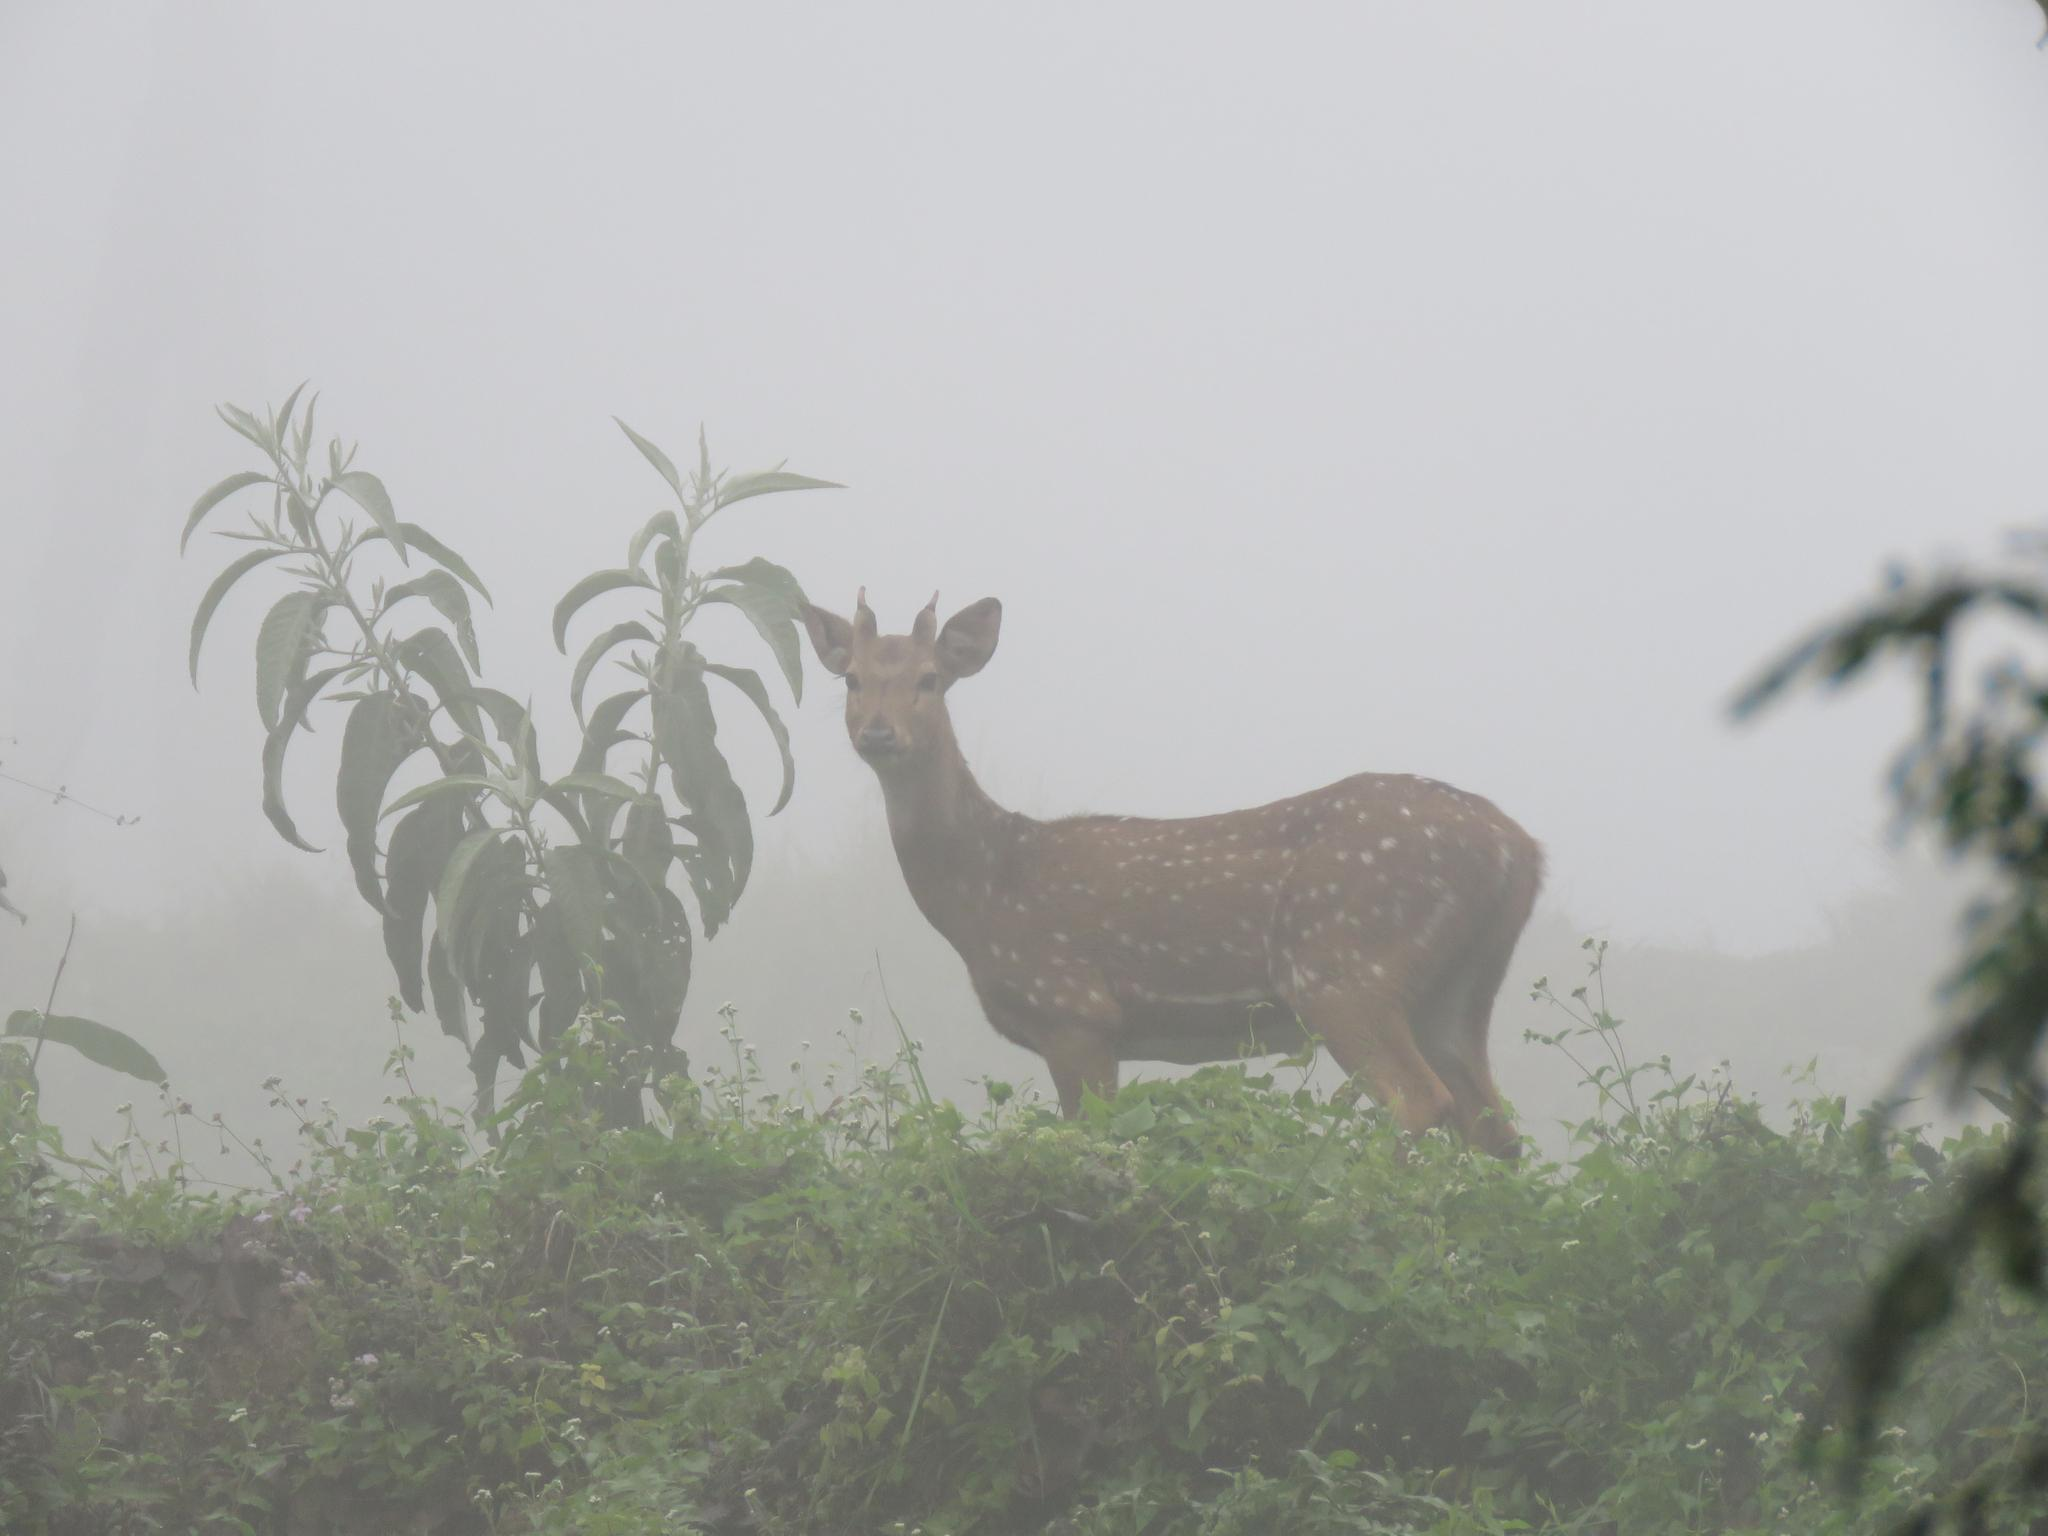Deer: (801, 589, 1543, 1158)
